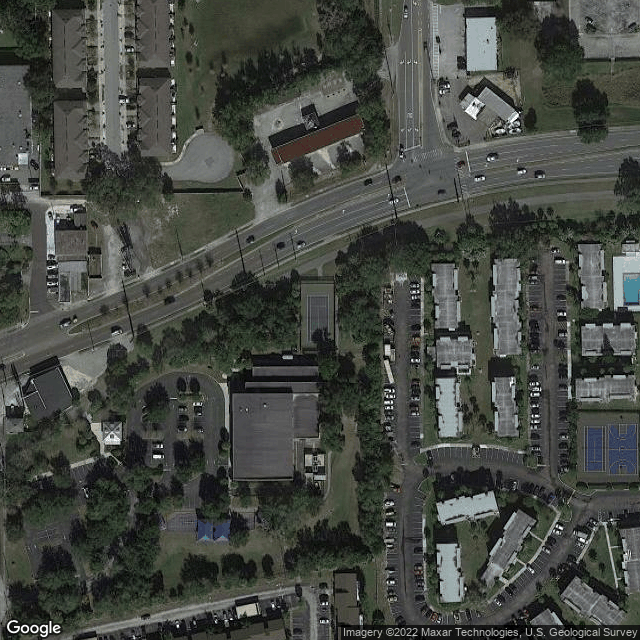Court: (306, 294, 330, 342), (583, 426, 607, 473)
